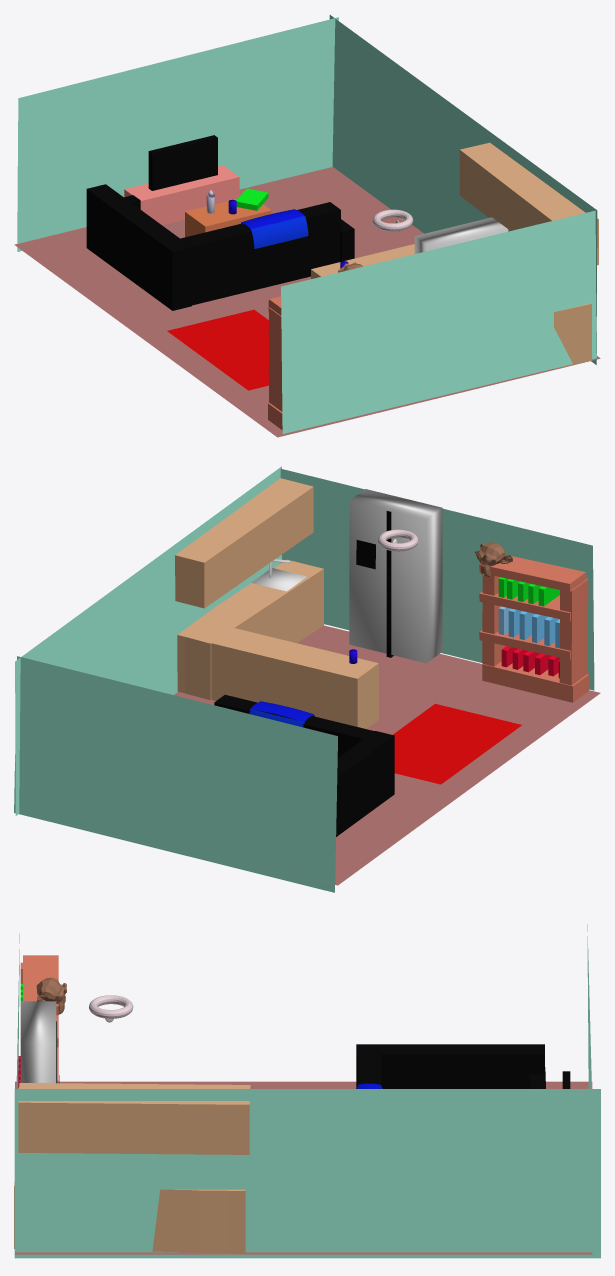
File: CityApartment.glb
The picture shows the model from 3 angles, top to bottom: view 1: azimuth 30°, elevation 25°; view 2: azimuth 150°, elevation 25°; view 3: azimuth 270°, elevation 25°; orthographic projection. The views are drawn at different scales.
Parts seen in each view (by area): view 1: Plane.003, Plane.001, Plane.002, Plane, Cube.005, Cube.006, Cube.011, Plane.005, Cube, Cube.001, Cube.010, Cube.018 (+6 smaller); view 2: Plane.001, Plane, Plane.003, Plane.002, Cube.018, Cube.002, Cube.011, Cube.010, Plane.005, Cube.006, Cube.014, Cube.012 (+10 smaller); view 3: Plane.002, Cube.011, Cube.006, Cube.010, Plane, Cube.018, Cube.002, Cube.016, Torus, Cube.005, Suzanne.
Boxes of the visible parts, left/top/right/bottom form: Plane.003: left=281, top=210, right=596, bottom=433; Plane.001: left=17, top=17, right=338, bottom=251; Plane.002: left=329, top=15, right=597, bottom=364; Plane: left=14, top=167, right=600, bottom=437; Cube.005: left=180, top=202, right=340, bottom=305; Cube.006: left=86, top=184, right=191, bottom=310; Cube.011: left=459, top=142, right=598, bottom=265; Plane.005: left=167, top=309, right=268, bottom=390; Cube: left=124, top=165, right=239, bottom=225; Cube.001: left=148, top=135, right=217, bottom=190; Cube.010: left=554, top=303, right=591, bottom=368; Cube.018: left=414, top=217, right=508, bottom=253; Plane.001: left=14, top=656, right=337, bottom=892; Plane: left=174, top=625, right=600, bottom=885; Plane.003: left=280, top=469, right=594, bottom=690; Plane.002: left=15, top=466, right=281, bottom=815; Cube.018: left=349, top=489, right=442, bottom=663; Cube.002: left=177, top=619, right=378, bottom=728; Cube.011: left=175, top=478, right=313, bottom=608; Cube.010: left=178, top=559, right=323, bottom=700; Plane.005: left=393, top=703, right=521, bottom=784; Cube.006: left=336, top=731, right=394, bottom=836; Cube.014: left=559, top=578, right=588, bottom=685; Cube.012: left=482, top=661, right=588, bottom=702; Plane.002: left=14, top=1089, right=600, bottom=1258; Cube.011: left=18, top=1083, right=250, bottom=1154; Cube.006: left=356, top=1044, right=544, bottom=1088; Cube.010: left=14, top=1182, right=244, bottom=1253; Plane: left=15, top=1081, right=592, bottom=1254; Cube.018: left=20, top=1001, right=56, bottom=1083; Cube.002: left=199, top=1189, right=245, bottom=1252; Cube.016: left=23, top=955, right=58, bottom=1015; Torus: left=89, top=995, right=133, bottom=1018; Cube.005: left=358, top=1054, right=381, bottom=1088; Suzanne: left=36, top=977, right=66, bottom=1014.
Bounding box in the file's own units: 23.23 × 10.73 × 32.99.
